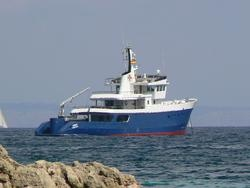yacht: (44, 38, 198, 135)
